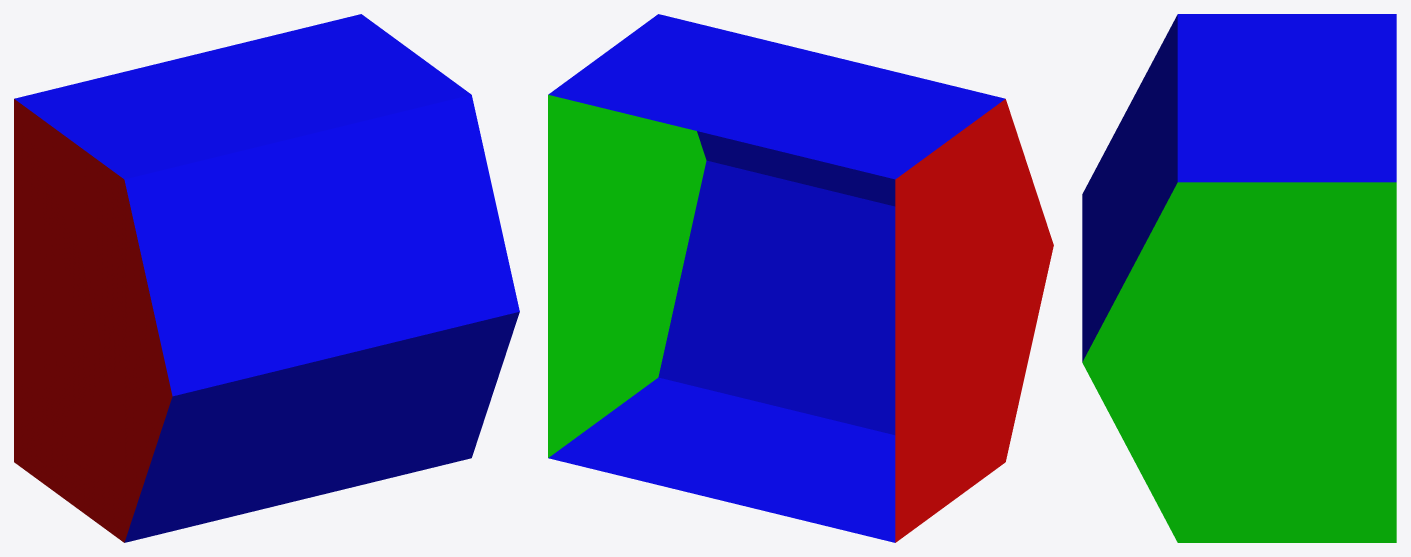
File: House.obj
The picture shows the model from 3 angles, left to right: view 1: azimuth 30°, elevation 25°; view 2: azimuth 150°, elevation 25°; view 3: azimuth 270°, elevation 25°; orthographic projection.
Parts seen in each view (by area): view 1: Cube; view 2: Cube; view 3: Cube.
Part boxes in pixels (left/top/right/bottom): Cube: left=14, top=14, right=519, bottom=542; Cube: left=548, top=14, right=1053, bottom=542; Cube: left=1082, top=14, right=1396, bottom=542.
Size of the model in its own units: 1.41 by 1.41 by 1.12.
Materials: 1 (1 with a texture image).
